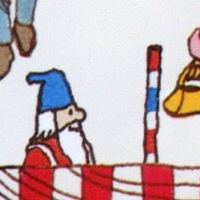wb: (26, 68, 87, 144)
